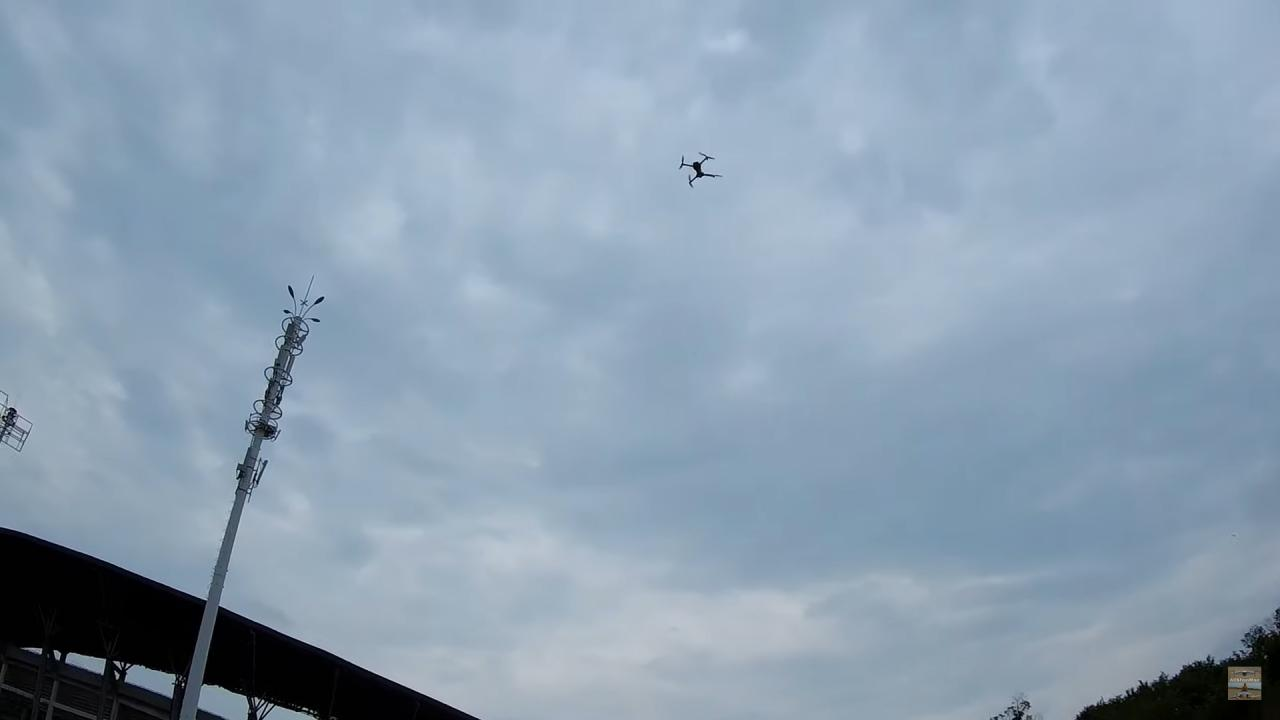Drone: (667, 140, 732, 199)
